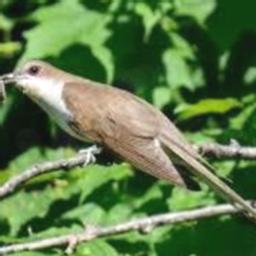Cuckoo: (0, 58, 256, 243)
